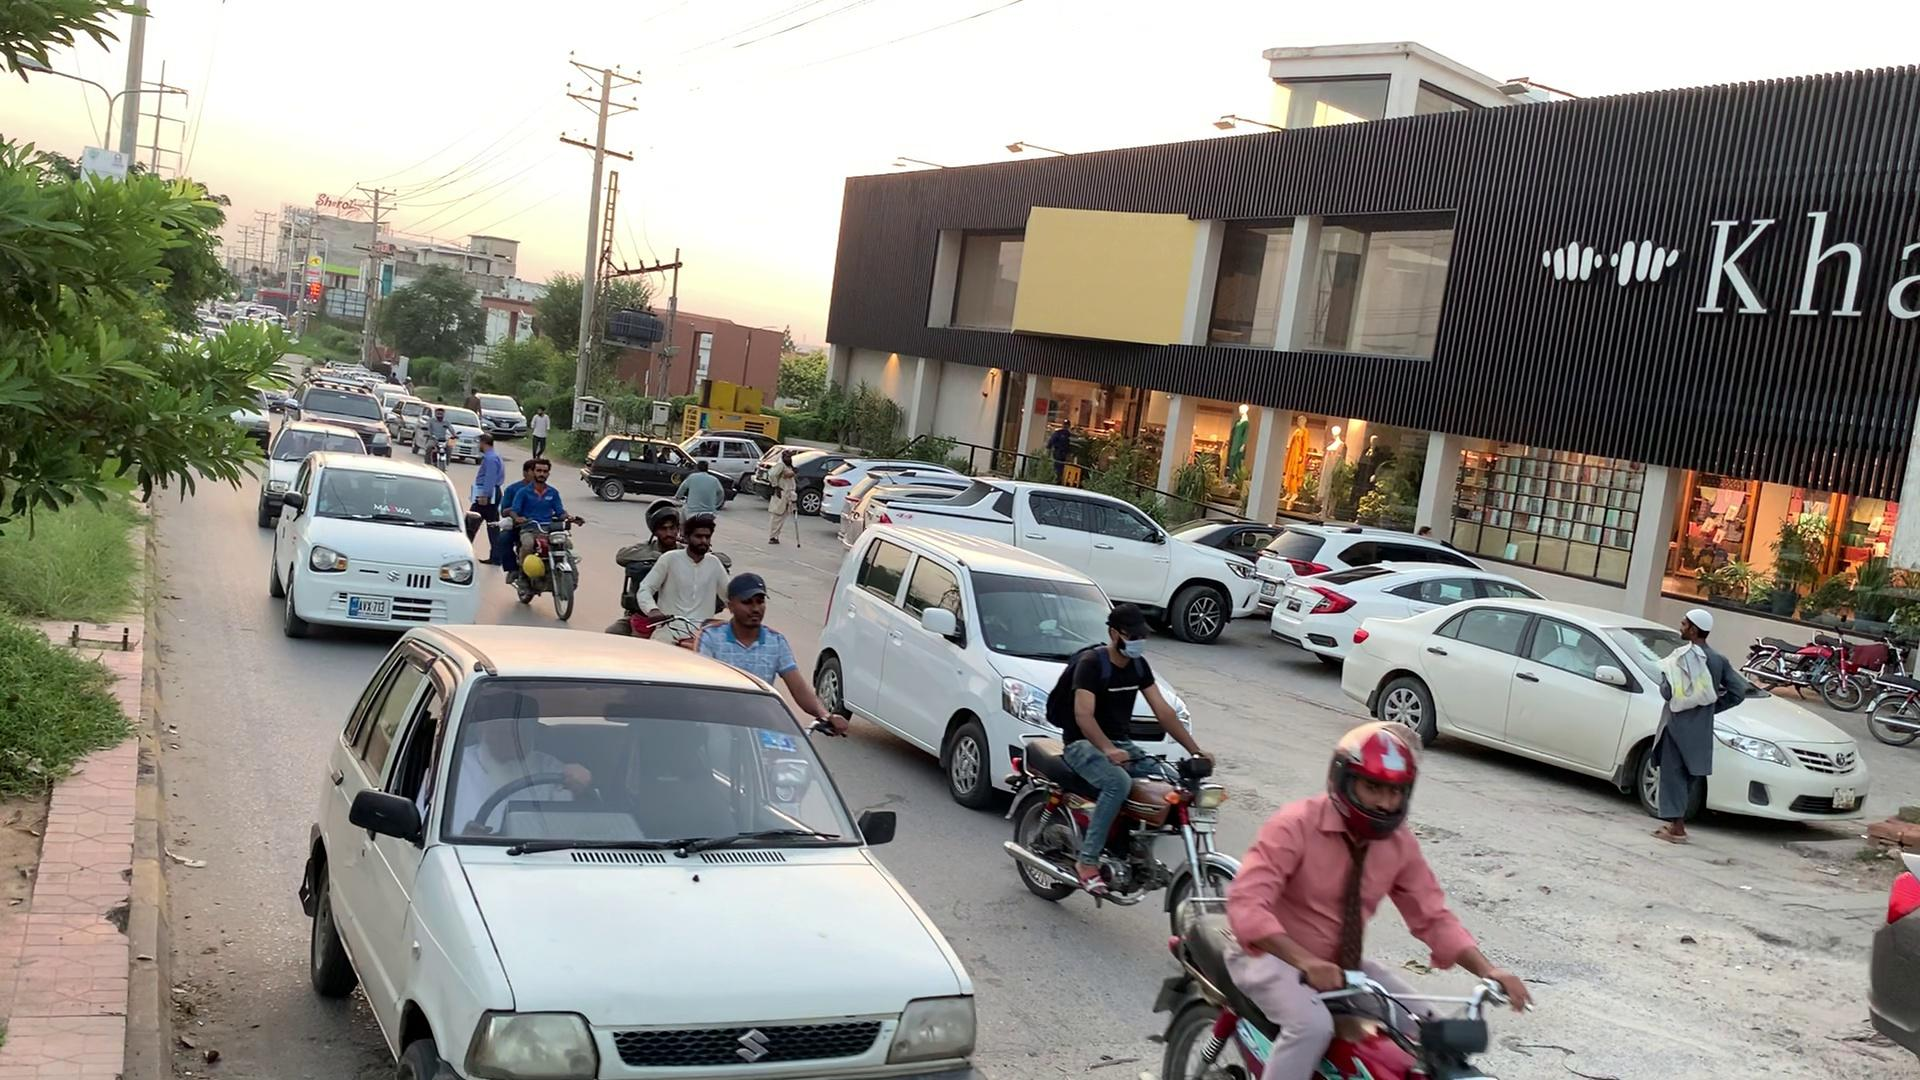windshield: (434, 676, 874, 884), (309, 459, 465, 537)
